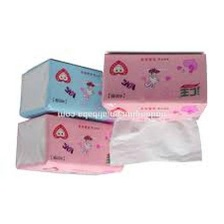tissue: (97, 47, 213, 125), (14, 55, 131, 127), (11, 109, 128, 180), (105, 113, 206, 169)
